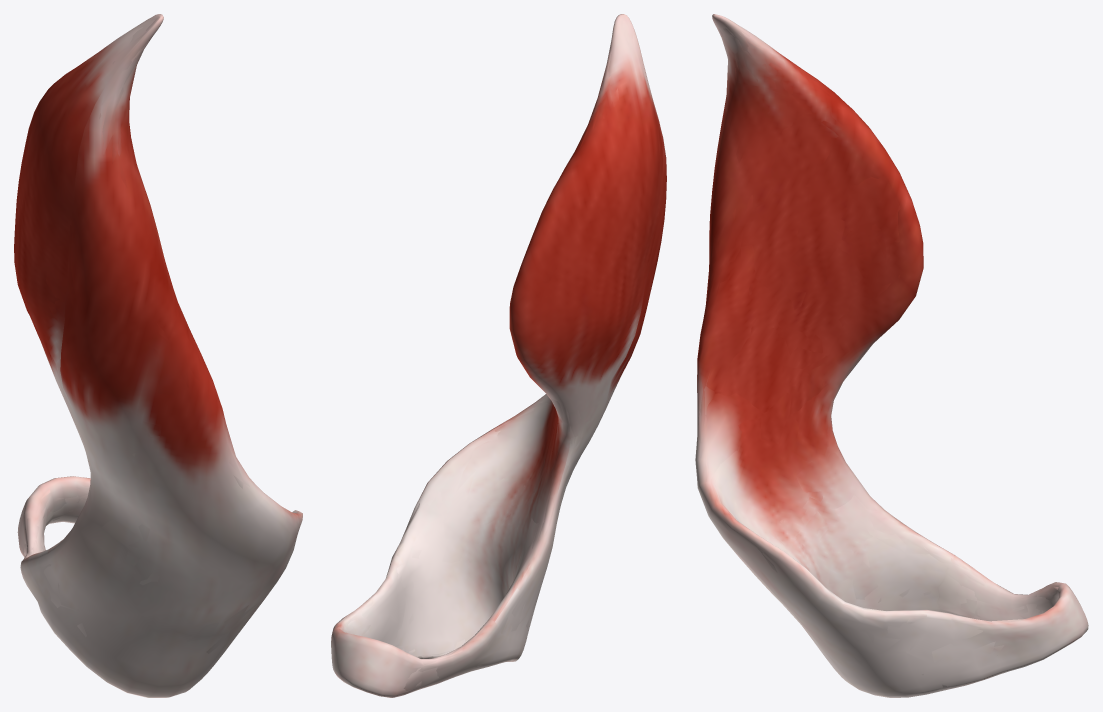
Rendered from R Tensor Fasciae Latae.fbx.
3 renders of one model, left to right at view 1: azimuth 30°, elevation 25°; view 2: azimuth 150°, elevation 25°; view 3: azimuth 270°, elevation 25°, orthographic. The views are drawn at different scales.
Visible parts, largest first — view 1: R Tensor Fasciae Latae, R Tensor Fasciae Latae low; view 2: R Tensor Fasciae Latae, R Tensor Fasciae Latae low; view 3: R Tensor Fasciae Latae, R Tensor Fasciae Latae low.
Boxes of the visible parts, bbox=[...] form: R Tensor Fasciae Latae: bbox=[14, 14, 302, 697]; R Tensor Fasciae Latae low: bbox=[23, 20, 297, 653]; R Tensor Fasciae Latae: bbox=[331, 14, 666, 697]; R Tensor Fasciae Latae low: bbox=[339, 20, 659, 690]; R Tensor Fasciae Latae: bbox=[695, 14, 1088, 697]; R Tensor Fasciae Latae low: bbox=[697, 28, 1058, 690].
Size of the model in its own units: 24.76 by 67.21 by 38.09.
